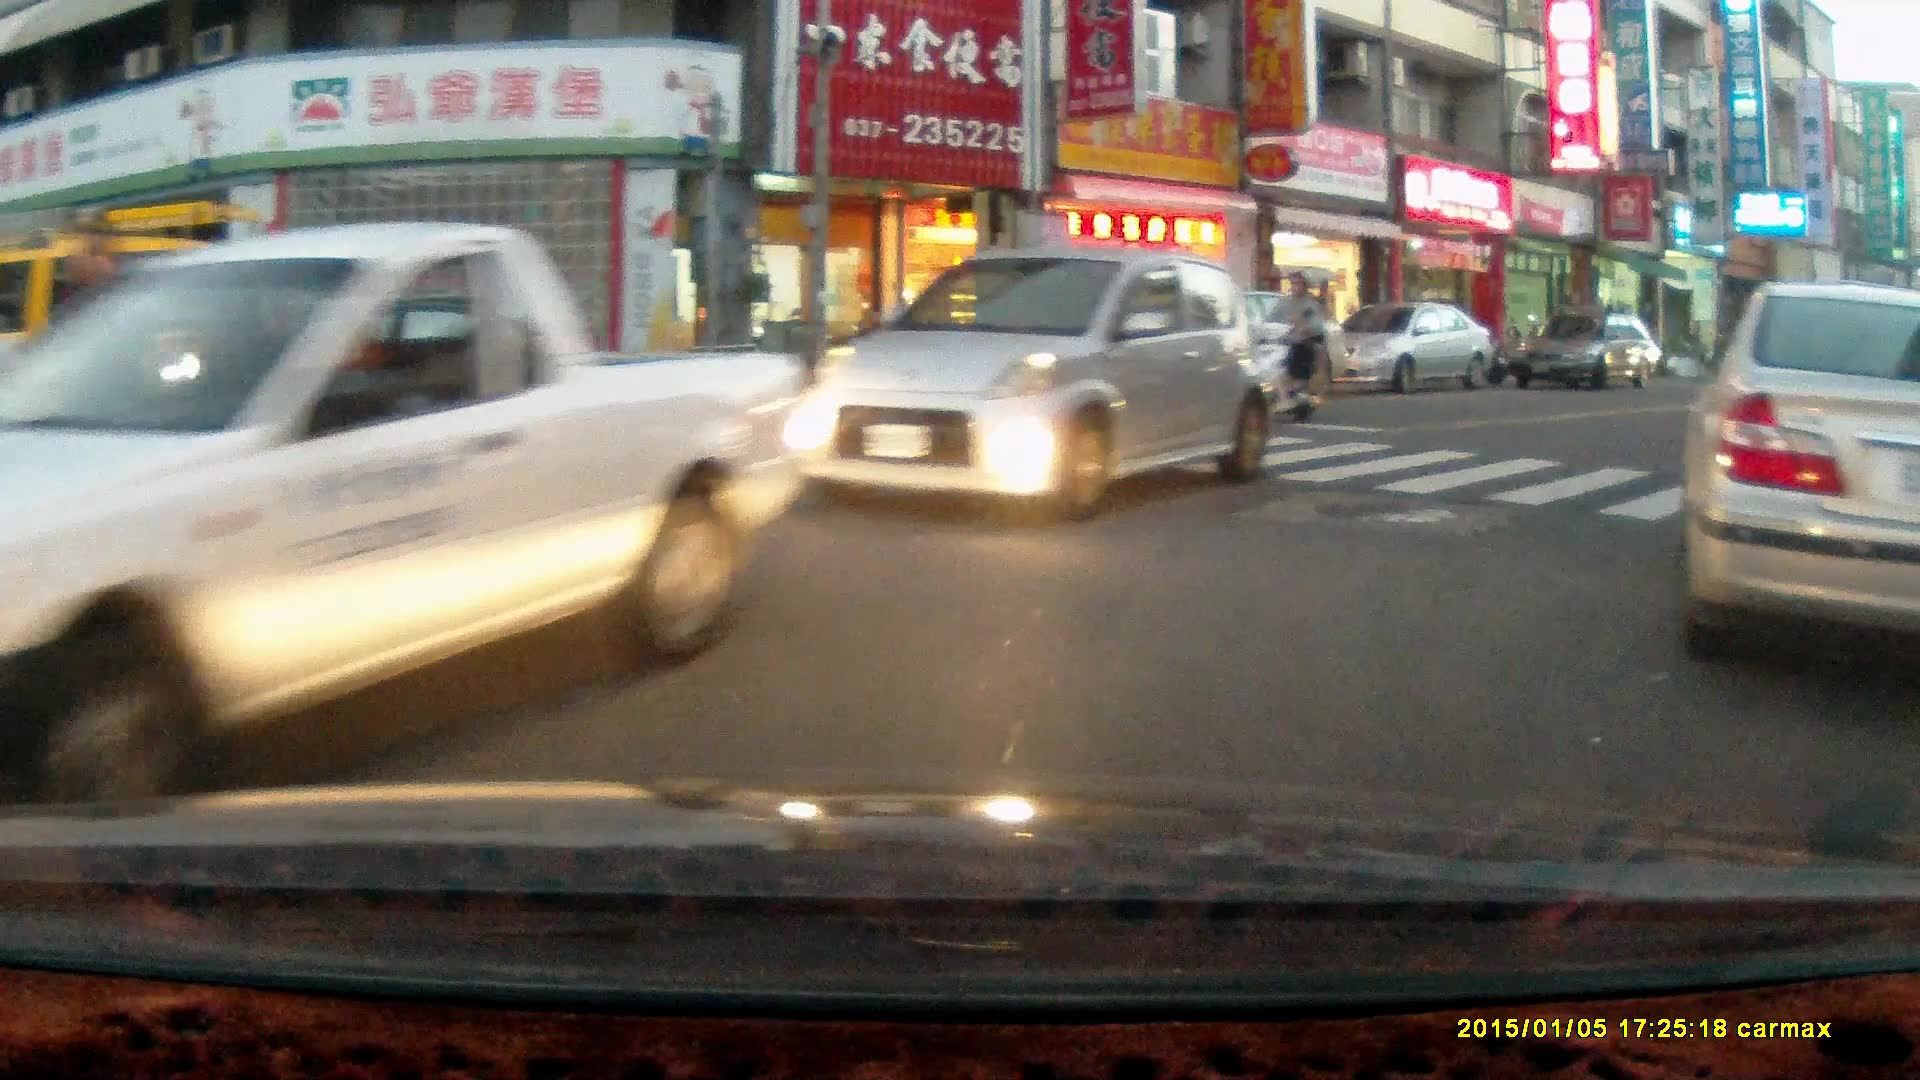rider: (1239, 262, 1328, 429)
vehicle: (6, 218, 828, 805), (780, 250, 1288, 520), (1681, 280, 1920, 689), (279, 290, 605, 438), (1329, 304, 1493, 394), (1509, 315, 1663, 391)
